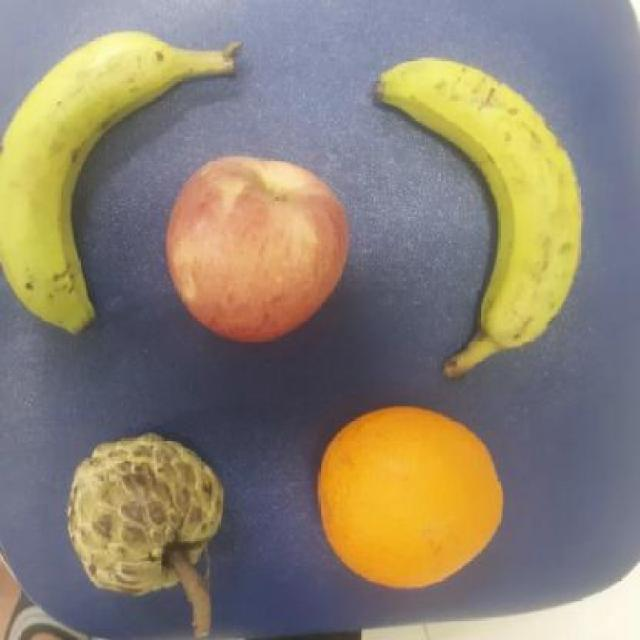apple: (164, 157, 356, 341)
banana: (370, 56, 582, 384), (1, 27, 184, 341)
pear: (318, 406, 513, 586)
sugar apple: (63, 432, 232, 593)
